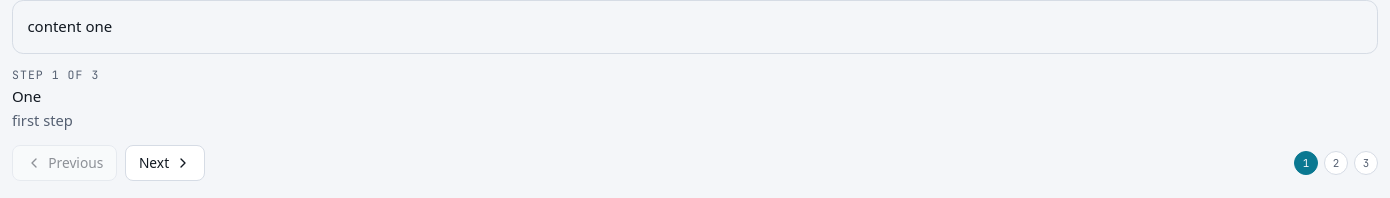
Test case: Stepper › jumps to a step from the step buttons
Click the button named "Step 3: Three" at {"x": 1366, "y": 163}, box [1354,151,1378,175]
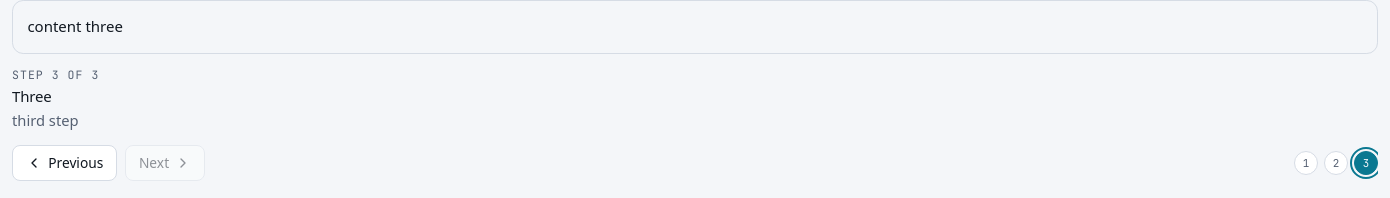
expect the text "content three" is shown: met, box [27,16,123,36]
